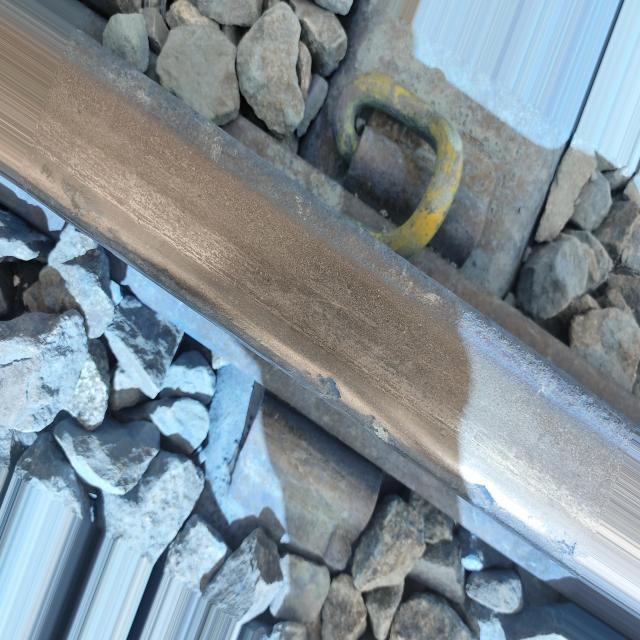Good Fasteners: (327, 64, 498, 266)
Missing Fastener: (165, 364, 450, 640)
